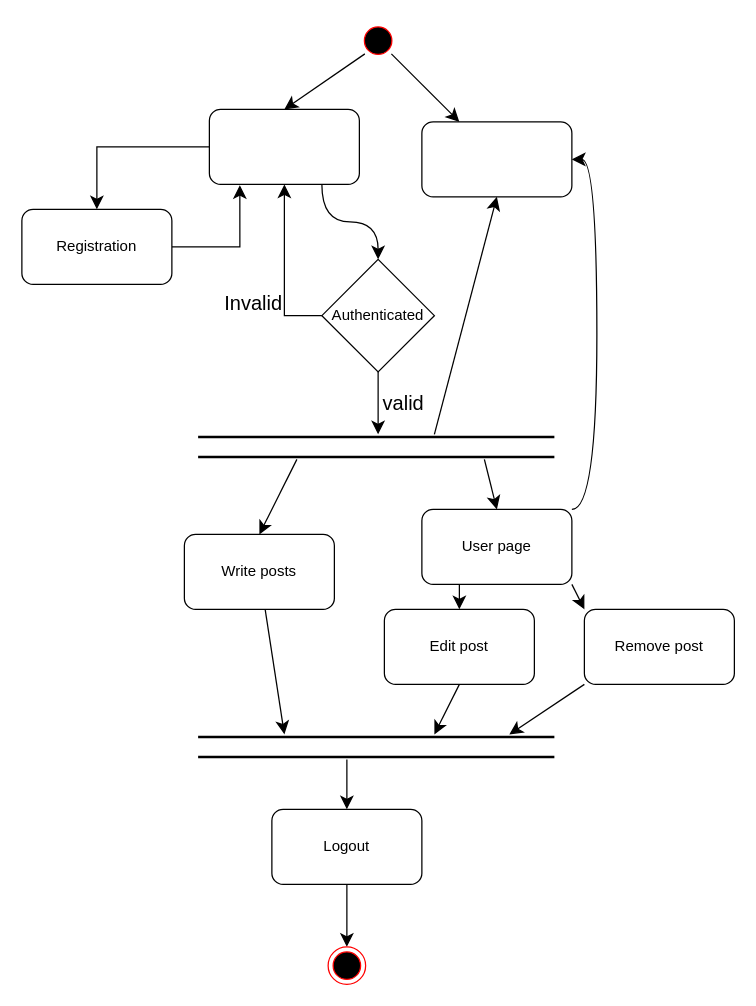
Some shapes in this 756 by 1006 pixel diagram are drawn without their labels. The centre of each missing label's shape, as x and y in pixels:
Login: the point at 283,146
View posts: the point at 496,159
